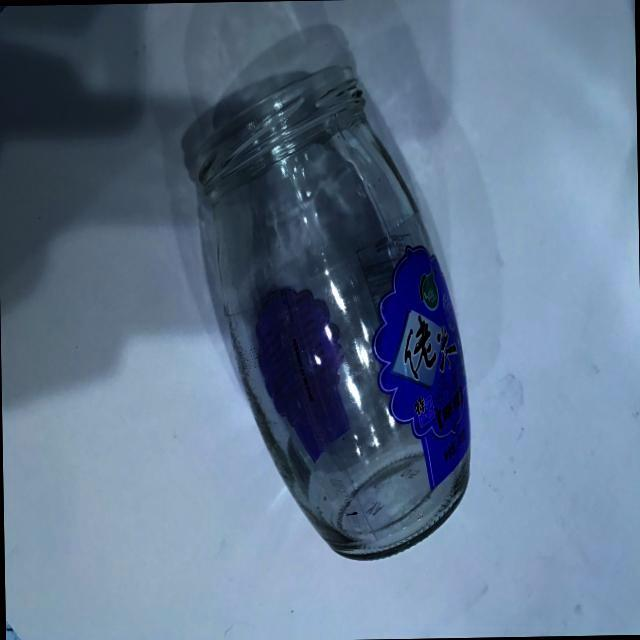glass: (177, 56, 488, 581)
